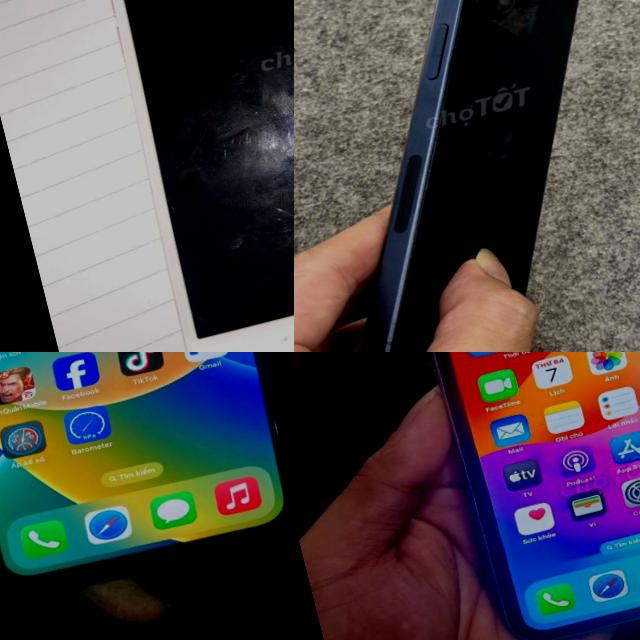scratch: (470, 110, 526, 174), (265, 315, 294, 350)
